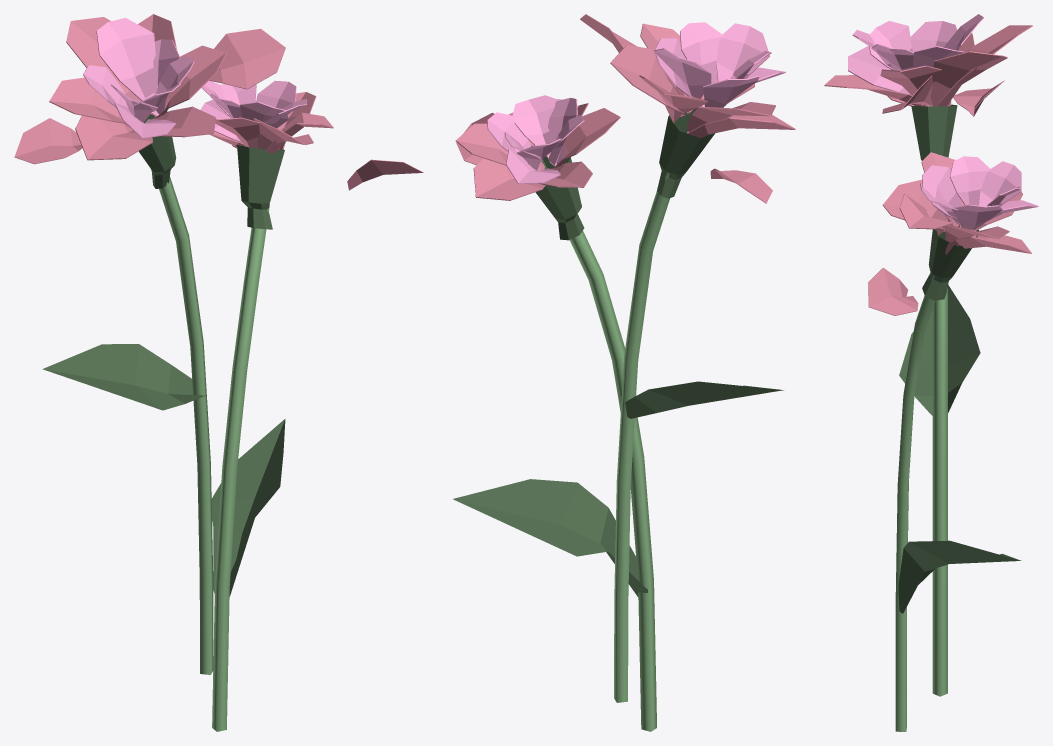
File: carnation.glb
The picture shows the model from 3 angles, left to right: view 1: azimuth 30°, elevation 25°; view 2: azimuth 150°, elevation 25°; view 3: azimuth 270°, elevation 25°; orthographic projection. The views are drawn at different scales.
Visible parts, largest first — view 1: Plane.005; view 2: Plane.005; view 3: Plane.005.
Part boxes in pixels (x1,y1,x2,y2): Plane.005: (14,14,423,731); Plane.005: (453,14,795,731); Plane.005: (824,14,1038,731).
Size of the model in its own units: 3.6 by 6.89 by 1.97.
